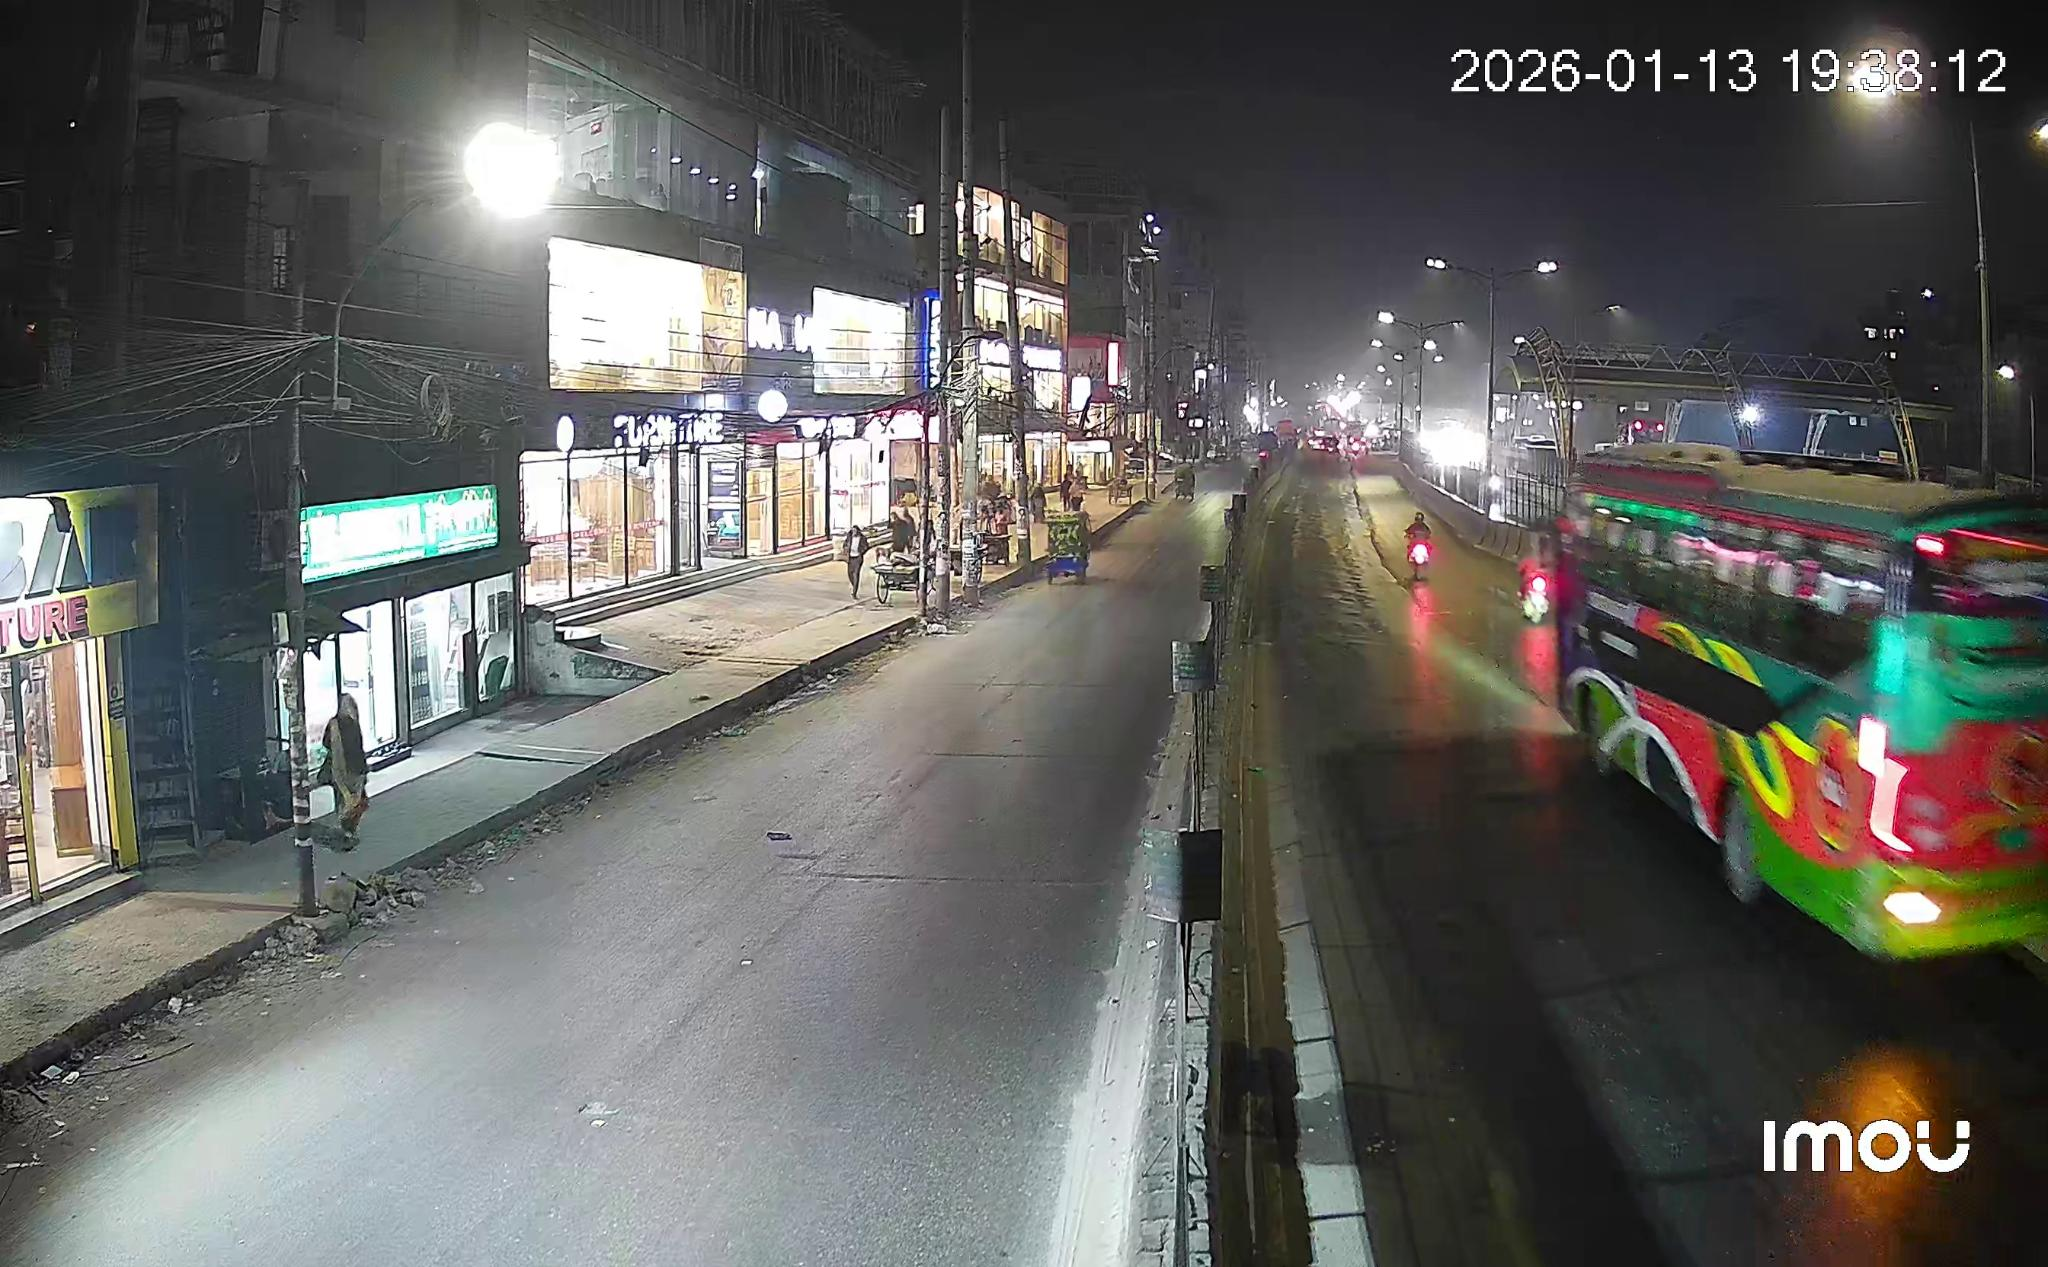Bus: (1552, 445, 2047, 960)
